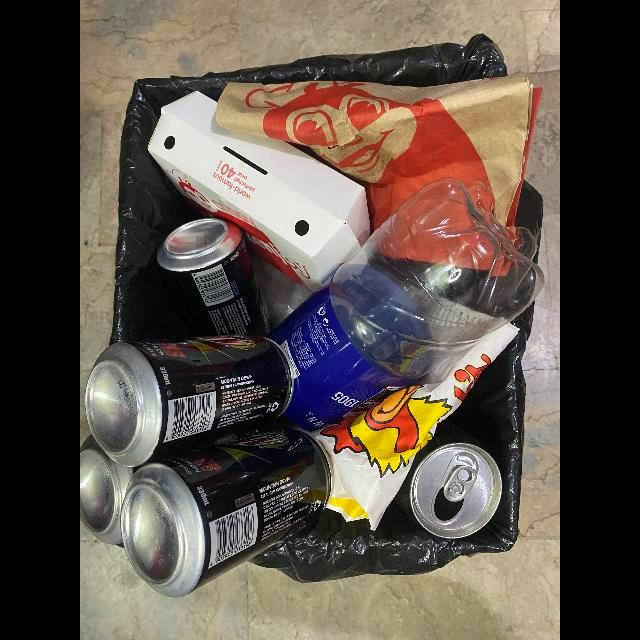aluminum: (121, 417, 333, 600), (84, 337, 295, 469), (158, 217, 274, 342), (393, 444, 503, 540), (80, 435, 132, 546)
cardboard: (147, 90, 370, 295)
paper: (215, 71, 543, 231), (316, 322, 521, 532)
plastic_bottle: (270, 177, 544, 433)
